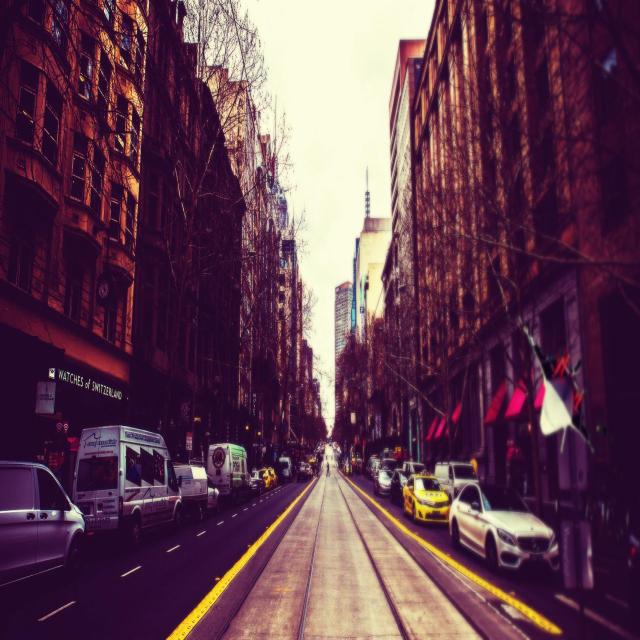airplane: (516, 314, 590, 453)
